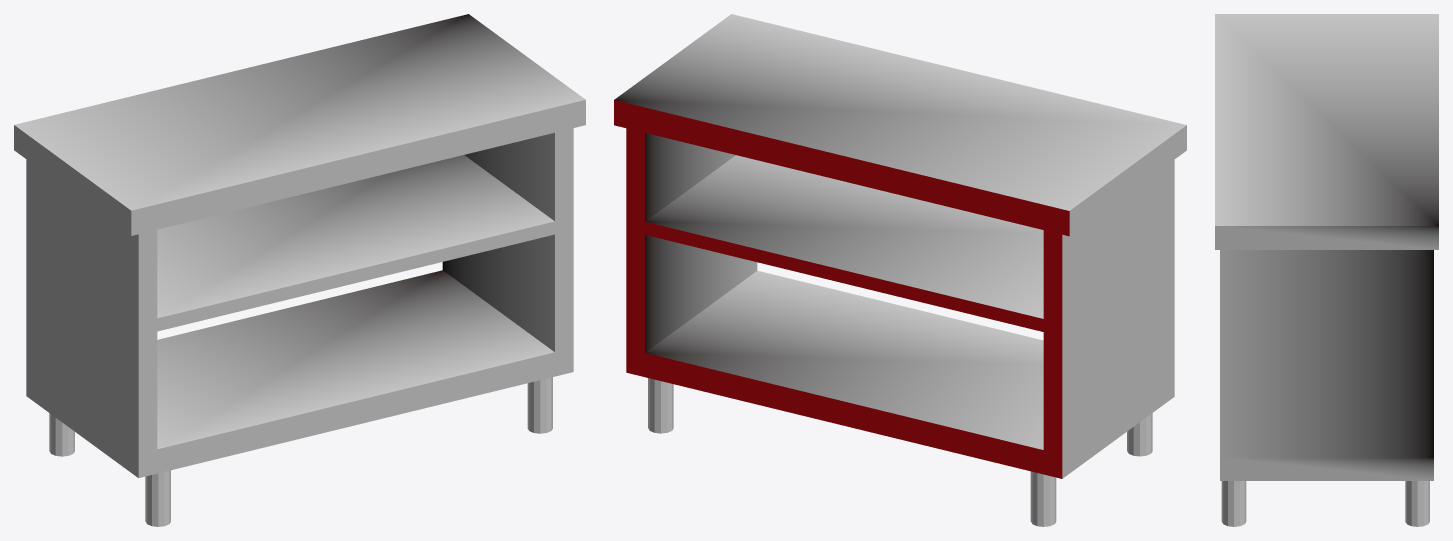
Rendered from worktable_a.fbx.
3 views of the same model, side by side, from view 1: azimuth 30°, elevation 25°; view 2: azimuth 150°, elevation 25°; view 3: azimuth 270°, elevation 25° (orthographic). The views are drawn at different scales.
Visible parts, largest first — view 1: worktable, Cube.015, Cube.014, Cylinder.012, Cylinder.013, Cylinder.015; view 2: worktable, Cube.015, Cube.014, Cylinder.015, Cylinder.014, Cylinder.013; view 3: Cube.015, worktable, Cylinder.012, Cylinder.014.
Boxes of the visible parts, x1,y1,x2,y2 form: worktable: (26,128,573,477); Cube.015: (14,14,585,235); Cube.014: (156,155,556,331); Cylinder.012: (527,377,552,433); Cylinder.013: (145,470,170,526); Cylinder.015: (49,413,74,456); worktable: (626,128,1174,478); Cube.015: (614,14,1186,236); Cube.014: (643,155,1044,331); Cylinder.015: (1030,471,1056,526); Cylinder.014: (648,378,673,433); Cylinder.013: (1127,413,1152,456); Cube.015: (1215,14,1438,249); worktable: (1220,250,1433,480); Cylinder.012: (1221,481,1246,526); Cylinder.014: (1405,481,1429,526).
Bounding box in the file's own units: 211 × 94.36 × 145.
